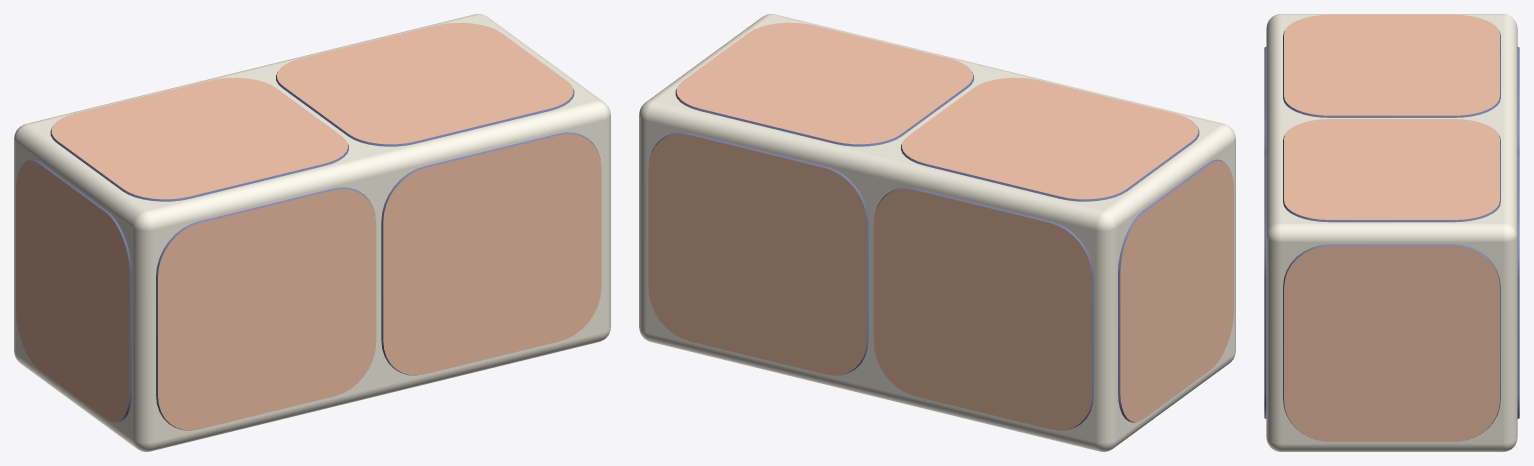
File: R4B_Beam2.fbx
The picture shows the model from 3 angles, left to right: view 1: azimuth 30°, elevation 25°; view 2: azimuth 150°, elevation 25°; view 3: azimuth 270°, elevation 25°; orthographic projection. The views are drawn at different scales.
Visible parts, largest first — view 1: R4B_Beam2; view 2: R4B_Beam2; view 3: R4B_Beam2.
Boxes of the visible parts, x1,y1,x2,y2 form: R4B_Beam2: (14, 14, 610, 451); R4B_Beam2: (639, 14, 1235, 451); R4B_Beam2: (1264, 14, 1519, 451).
Size of the model in its own units: 1.07 by 0.52 by 0.52.
